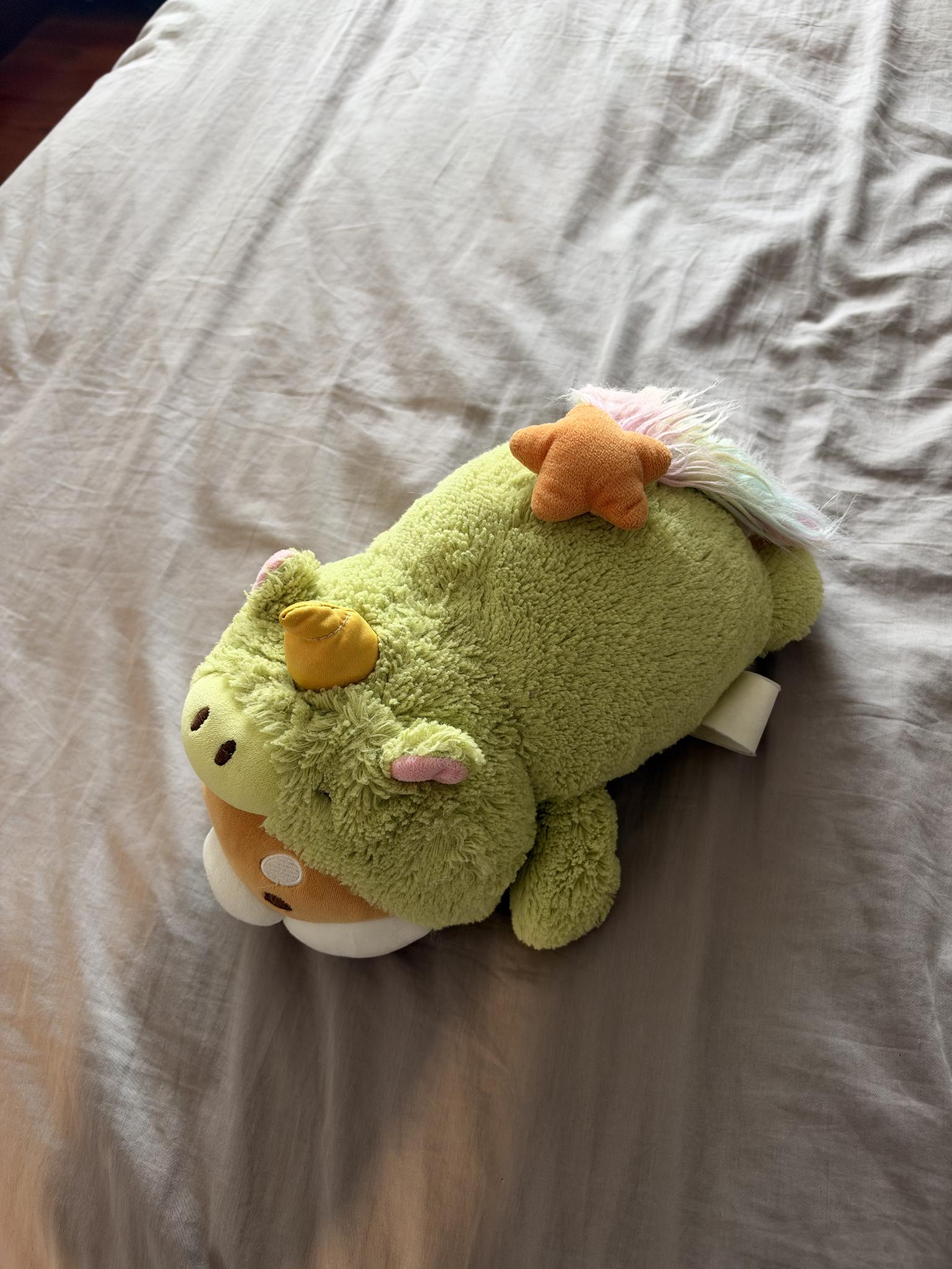peluche_martin: (178, 382, 827, 961)
